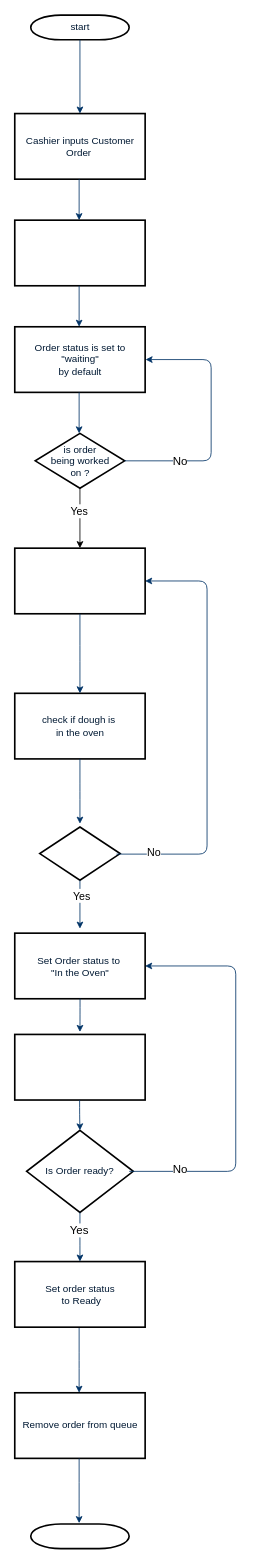
This 257x1563 diagram has some shape labels left out. The centre of each missing label's shape, as x and y in pixels:
check if order is ready: (x=80, y=1066)
end: (x=80, y=1536)
is dough in the oven?: (x=80, y=853)
Order is added to queue: (x=80, y=252)
Set Order status to "In Process": (x=80, y=580)
